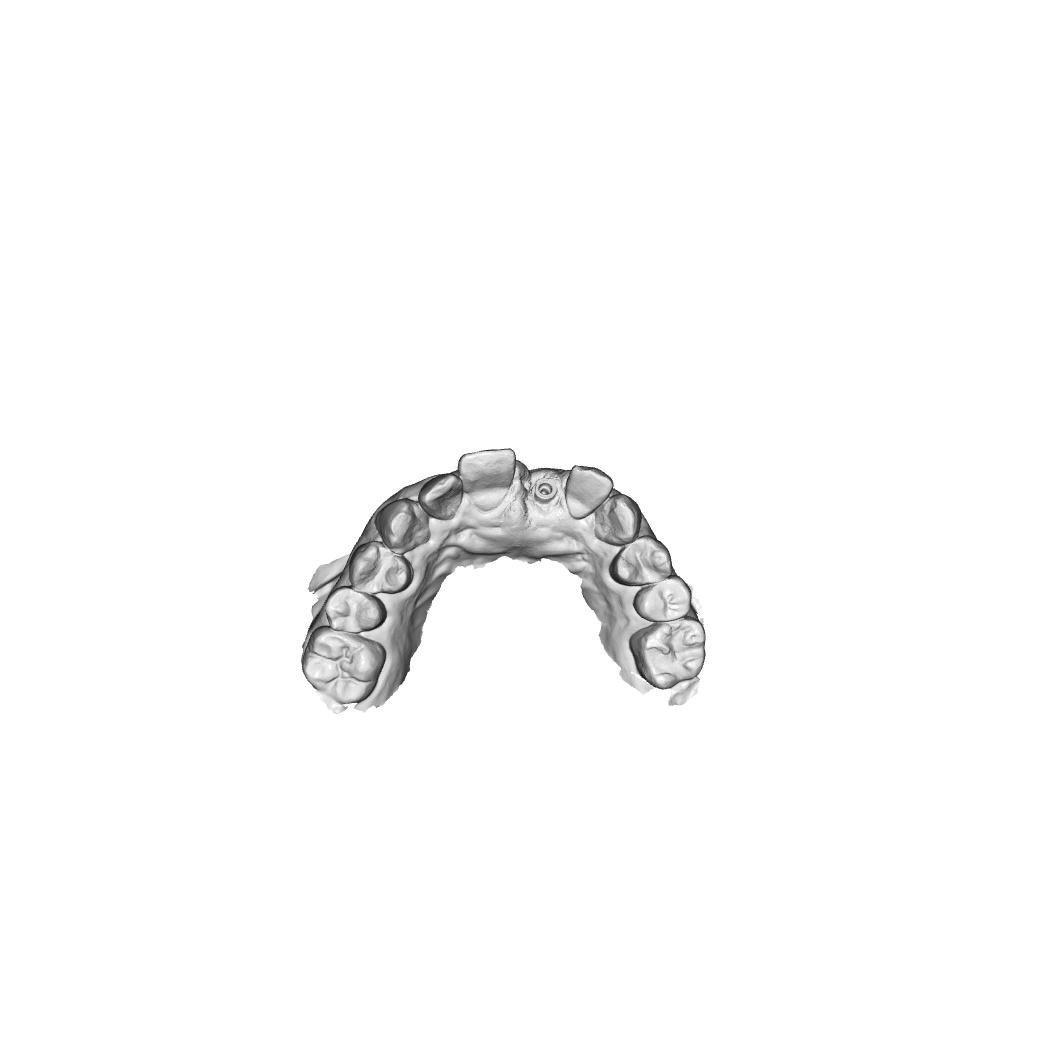canine: (373, 497, 432, 555), (593, 493, 642, 546)
implant: (531, 477, 559, 505)
incisor: (457, 447, 517, 512), (564, 464, 615, 521), (418, 471, 464, 521)
molar: (301, 625, 388, 705), (628, 615, 706, 690)
premolar: (348, 540, 414, 595), (608, 534, 673, 588), (323, 585, 388, 634), (632, 575, 693, 623)
